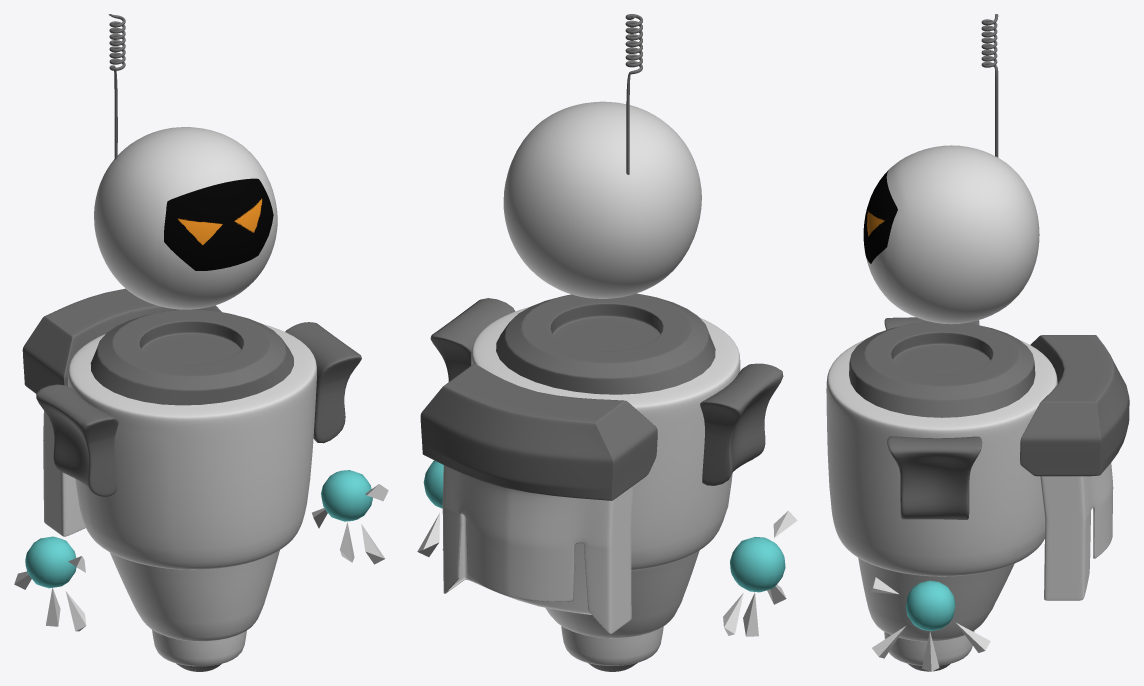
File: beta.fbx
3 renders of one model, left to right at view 1: azimuth 30°, elevation 25°; view 2: azimuth 150°, elevation 25°; view 3: azimuth 270°, elevation 25°, orthographic. The views are drawn at different scales.
Visible parts, largest first — view 1: Body, pCube6, Body_part2, Jetpack, R_sholder, pCube2 (×2), L_sholder, Body_part3, Antina; view 2: Jetpack, Body, pCube6, R_sholder, Body_part2, pCube2 (×2), L_sholder, Body_part3, Antina; view 3: Body, pCube6, Jetpack, L_sholder, Body_part2, pCube2, Body_part3, Antina.
Boxes of the visible parts, bbox=[...] form: Body: bbox=[68, 309, 316, 569]; pCube6: bbox=[94, 127, 277, 309]; Body_part2: bbox=[110, 550, 279, 641]; Jetpack: bbox=[22, 288, 221, 536]; R_sholder: bbox=[36, 384, 118, 496]; pCube2 (×2): bbox=[25, 470, 372, 588]; L_sholder: bbox=[285, 322, 361, 443]; Body_part3: bbox=[152, 630, 246, 666]; Antina: bbox=[108, 14, 125, 159]; Jetpack: bbox=[420, 363, 657, 634]; Body: bbox=[471, 293, 740, 570]; pCube6: bbox=[503, 101, 701, 298]; R_sholder: bbox=[700, 363, 783, 485]; Body_part2: bbox=[545, 550, 699, 638]; pCube2 (×2): bbox=[423, 460, 785, 592]; L_sholder: bbox=[430, 298, 515, 381]; Body_part3: bbox=[561, 626, 663, 665]; Antina: bbox=[625, 14, 642, 174]; Body: bbox=[826, 321, 1057, 576]; pCube6: bbox=[863, 145, 1039, 324]; Jetpack: bbox=[1020, 335, 1129, 600]; L_sholder: bbox=[887, 436, 982, 519]; Body_part2: bbox=[858, 558, 1014, 641]; pCube2: bbox=[906, 580, 955, 631]; Body_part3: bbox=[884, 631, 974, 665]; Antina: bbox=[981, 14, 998, 157].
Bounding box in the file's own units: 4.5 × 8.22 × 3.62.
